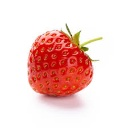strawberry: (26, 24, 97, 98)
